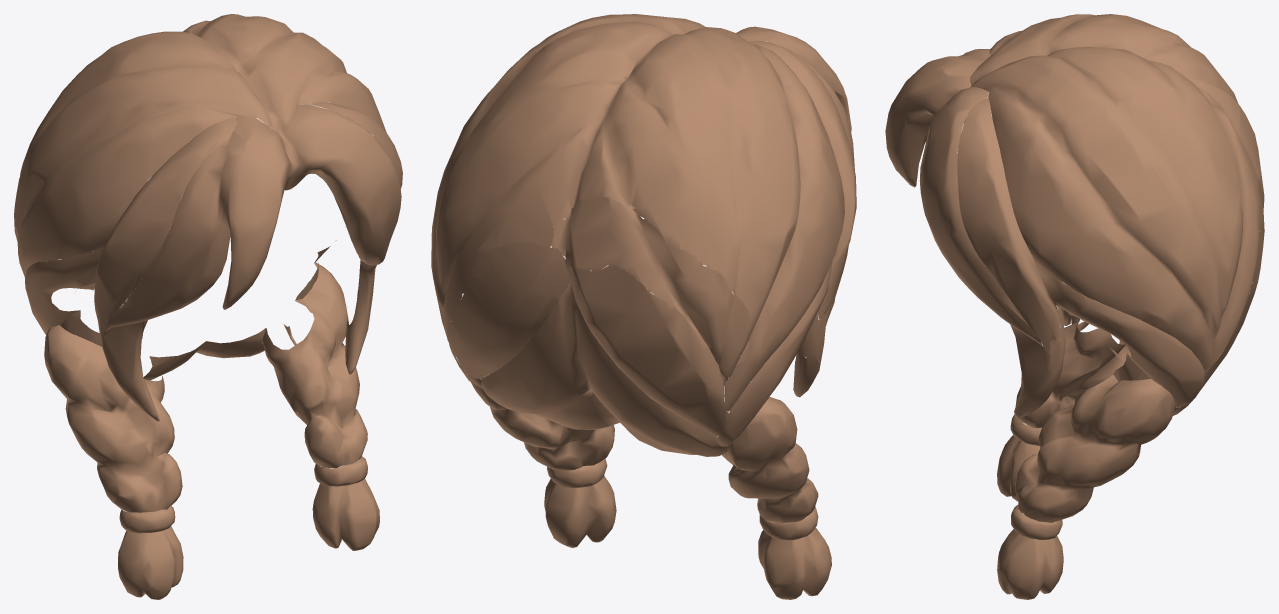
File: hair_13.glb
The picture shows the model from 3 angles, left to right: view 1: azimuth 30°, elevation 25°; view 2: azimuth 150°, elevation 25°; view 3: azimuth 270°, elevation 25°; orthographic projection. The views are drawn at different scales.
Visible parts, largest first — view 1: hair; view 2: hair; view 3: hair.
Part boxes in pixels (x1,y1,x2,y2): hair: [14, 14, 402, 599]; hair: [431, 14, 856, 599]; hair: [885, 14, 1264, 599].
Bounding box in the file's own units: 0.4569 × 0.6831 × 0.4637.
